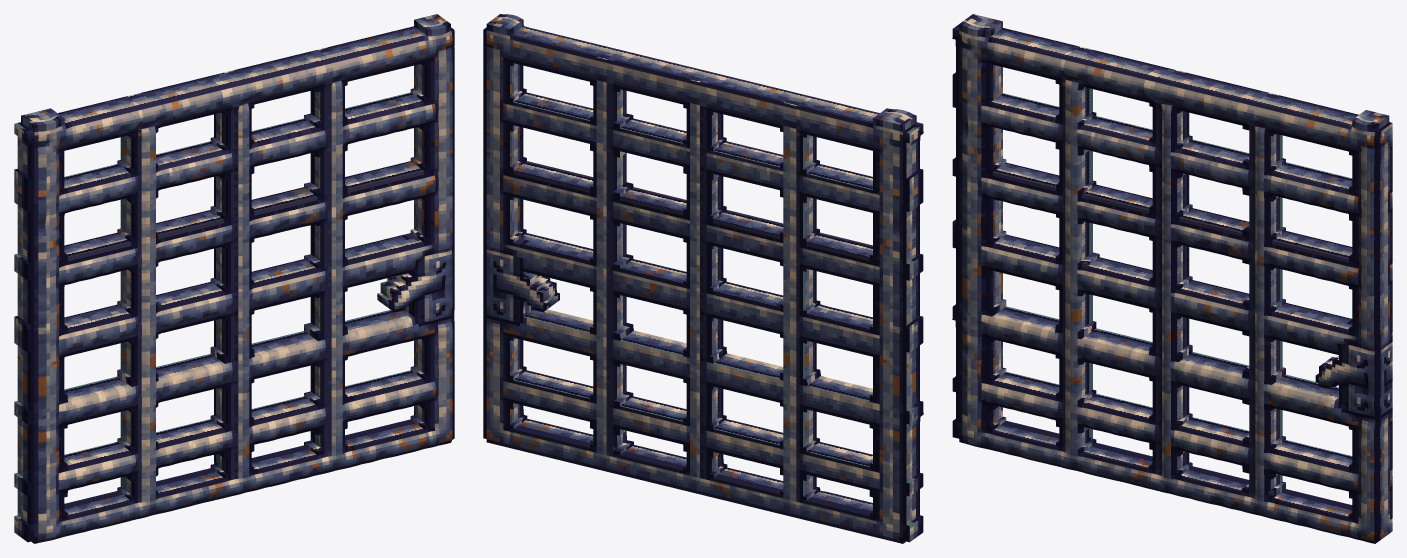
Rendered from scell_img.glb.
3 views of the same model, side by side, from view 1: azimuth 30°, elevation 25°; view 2: azimuth 150°, elevation 25°; view 3: azimuth 330°, elevation 25° (orthographic).
Parts seen in each view (by area): view 1: Masonry_Relief, Solid_Back_And_Edges; view 2: Solid_Back_And_Edges; view 3: Masonry_Relief, Solid_Back_And_Edges.
Boxes of the visible parts, left/top/right/bottom form: Masonry_Relief: left=27, top=24, right=454, bottom=543; Solid_Back_And_Edges: left=14, top=14, right=453, bottom=543; Solid_Back_And_Edges: left=483, top=14, right=923, bottom=543; Masonry_Relief: left=952, top=24, right=1378, bottom=543; Solid_Back_And_Edges: left=953, top=14, right=1392, bottom=543.
Bounding box in the file's own units: 1 × 0.9375 × 0.064.
2 materials, 2 textured.
